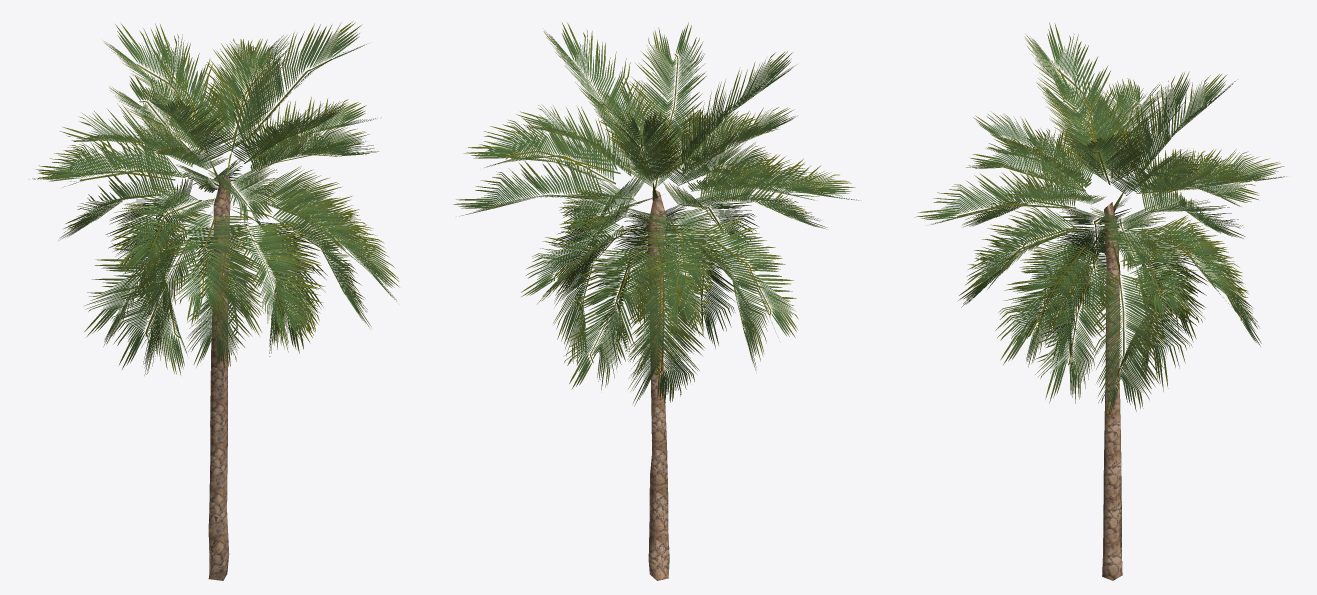
Rendered from palm_date.glb.
The picture shows the model from 3 angles, left to right: view 1: azimuth 30°, elevation 25°; view 2: azimuth 150°, elevation 25°; view 3: azimuth 270°, elevation 25°; orthographic projection. The views are drawn at different scales.
Parts seen in each view (by area): view 1: Tree_0_Tree_0Mat_0; view 2: Tree_0_Tree_0Mat_0; view 3: Tree_0_Tree_0Mat_0.
Part boxes in pixels (x1=…): Tree_0_Tree_0Mat_0: x1=29, y1=21, x2=399, y2=580; Tree_0_Tree_0Mat_0: x1=453, y1=22, x2=858, y2=580; Tree_0_Tree_0Mat_0: x1=914, y1=22, x2=1286, y2=580.
Bounding box in the file's own units: 5.46 × 7.34 × 5.21.
Materials: 4 (4 with a texture image).
